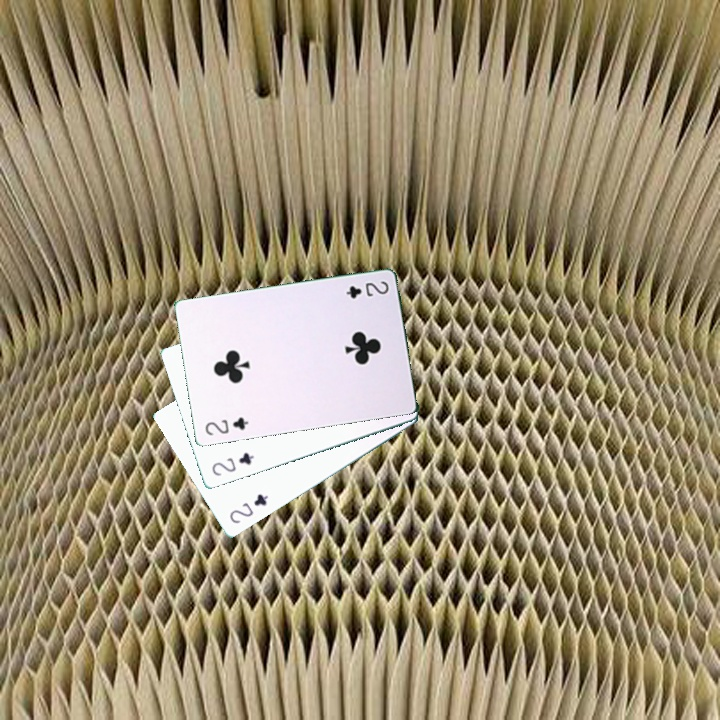2c: (225, 490, 270, 526), (208, 448, 256, 479), (201, 413, 251, 438), (342, 277, 391, 301)
